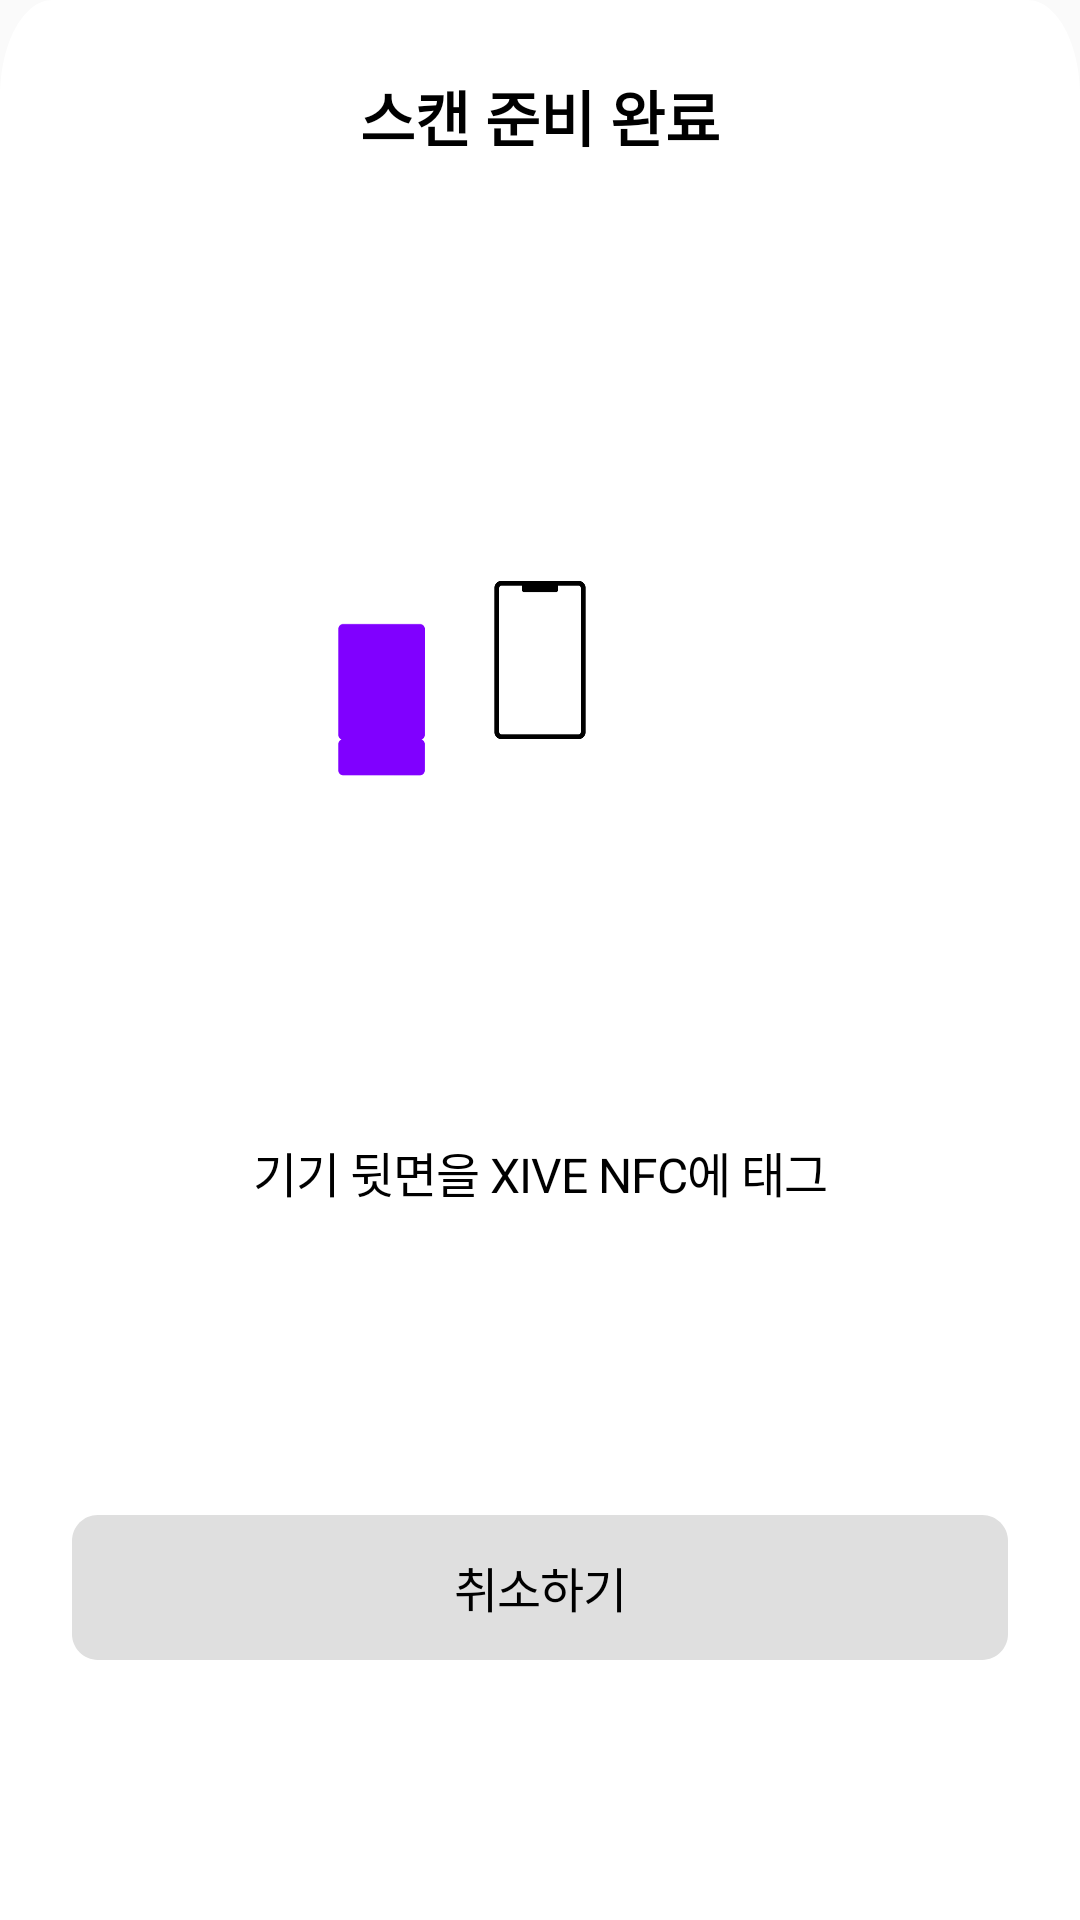

Icons on this 1080 × 1920 Android screen, each with its box as box=[x1, y1, x2, y2]:
nfc guide animation: box=[338, 581, 586, 776]
